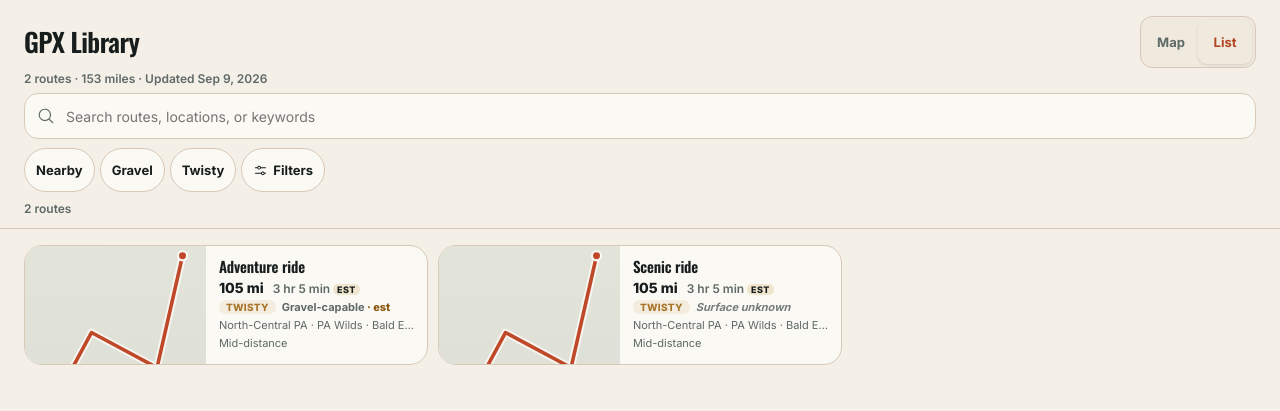
it: GPX Library discovery › applies a quick filter the collection can satisfy
The width and height of the screenshot is (1280, 411).
What coordinates should you click on to do the following:
click the button "Gravel"
I would click on:
 (132, 170)
Its box is [100,148,165,192].
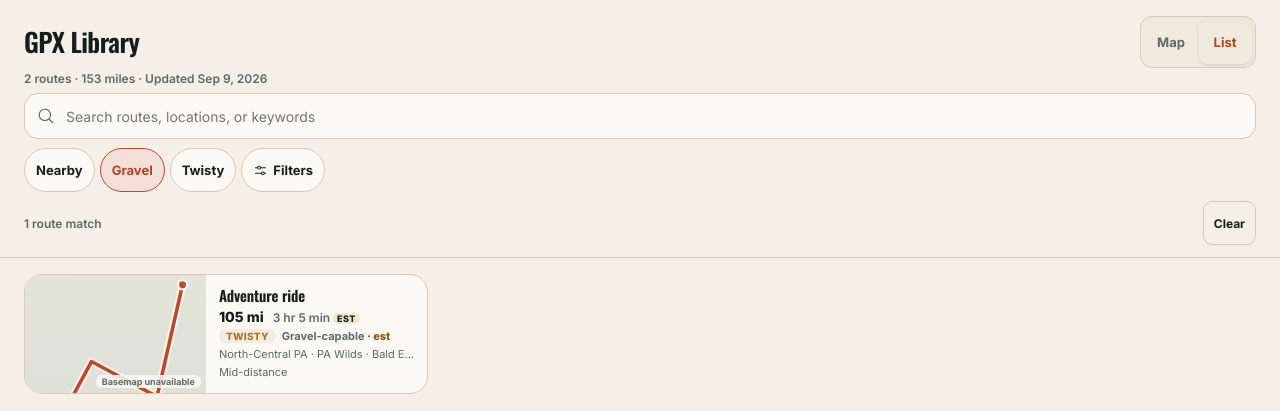
expect the link "Adventure ride" is shown: met, box [25,275,427,393]
expect the link "Scenic ride" is gone: met
